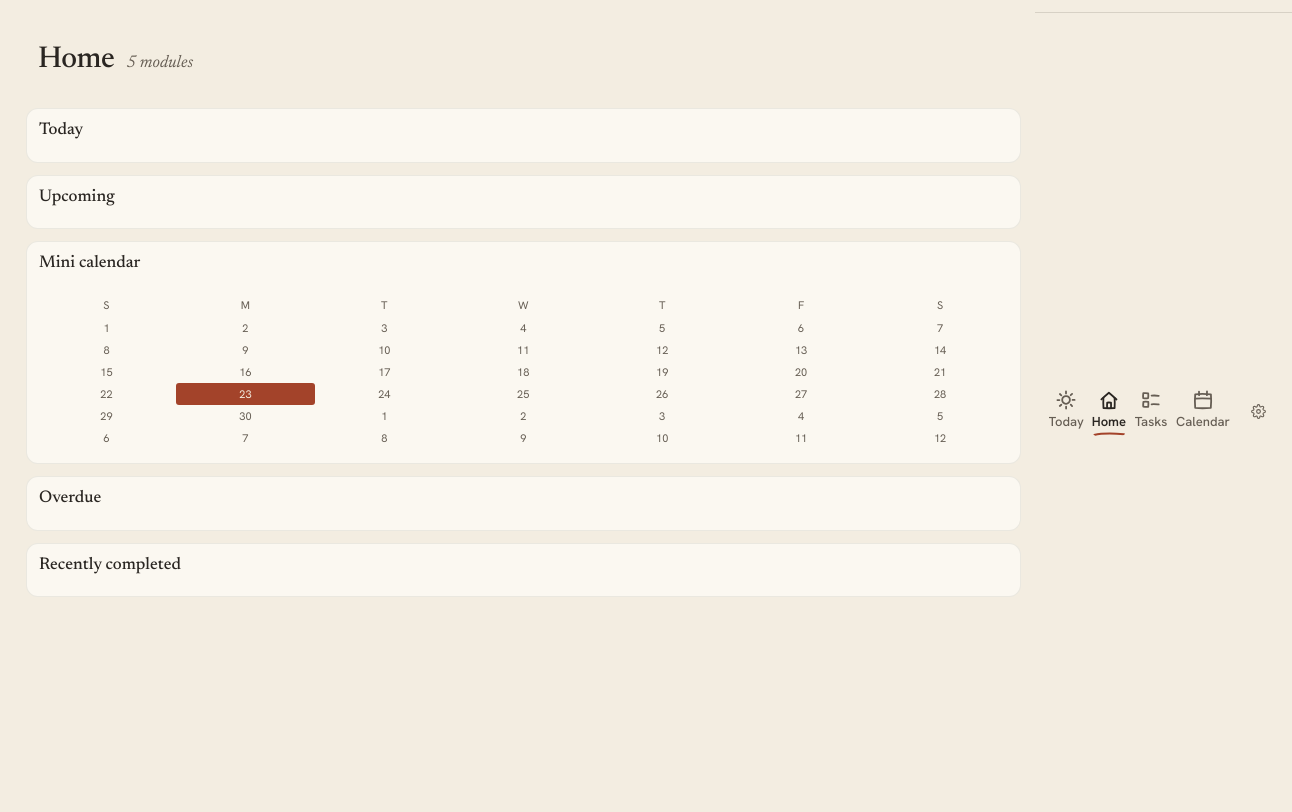
Scenario: the sidebar layout › on a phone, keeps the lists in the view, where the drawer opens from
The width and height of the screenshot is (1292, 812).
What coordinates should you click on to do the following:
click the button "Tasks"
I would click on:
 (1151, 412)
Its box is [1132, 386, 1170, 438].
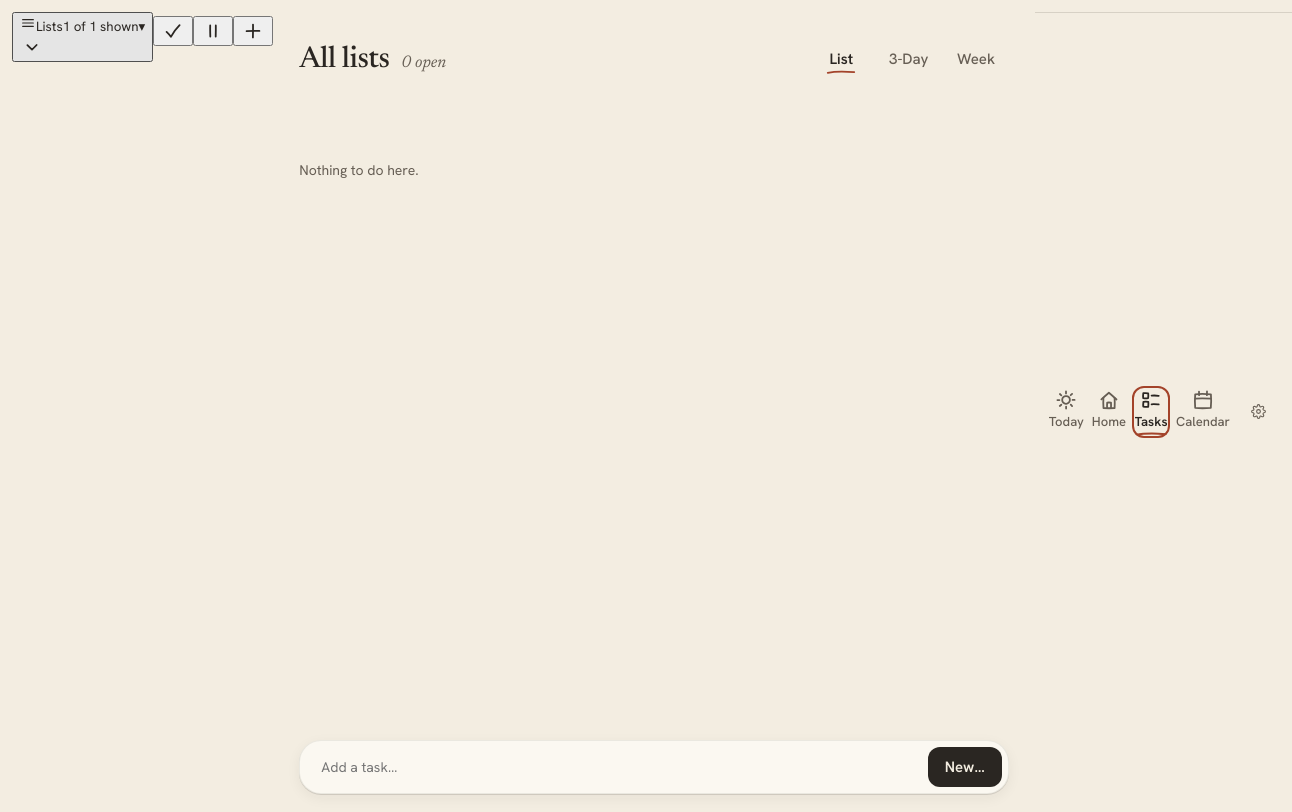
Now the element with class "side-mobilebar" is shown, box [12, 12, 273, 62]
